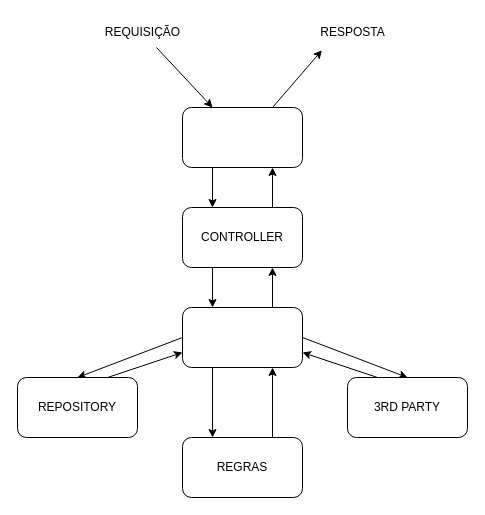
Some shapes in this 485 by 515 pixel diagram are drawn without their labels. The centre of each missing label's shape, as x and y in pixels:
"ENTRY POINT (EXPRESS)" belongs at point (242, 137).
"SERVICE" belongs at point (242, 337).
